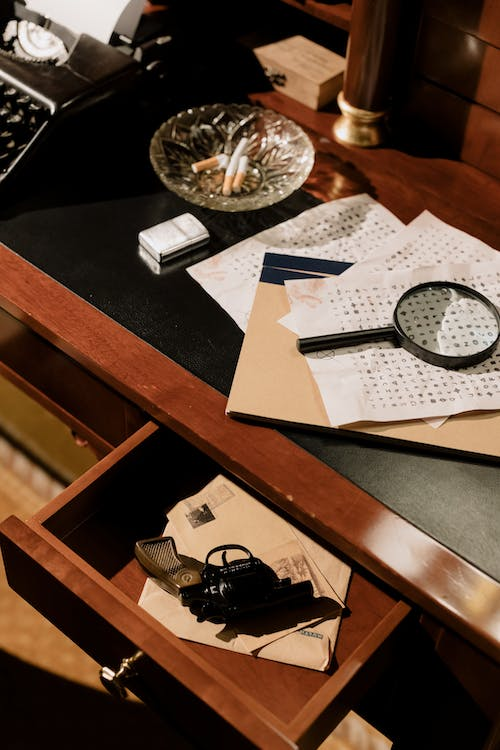cigarette: (220, 132, 250, 195), (186, 152, 228, 174), (233, 156, 249, 191)
gun: (129, 529, 338, 631)
